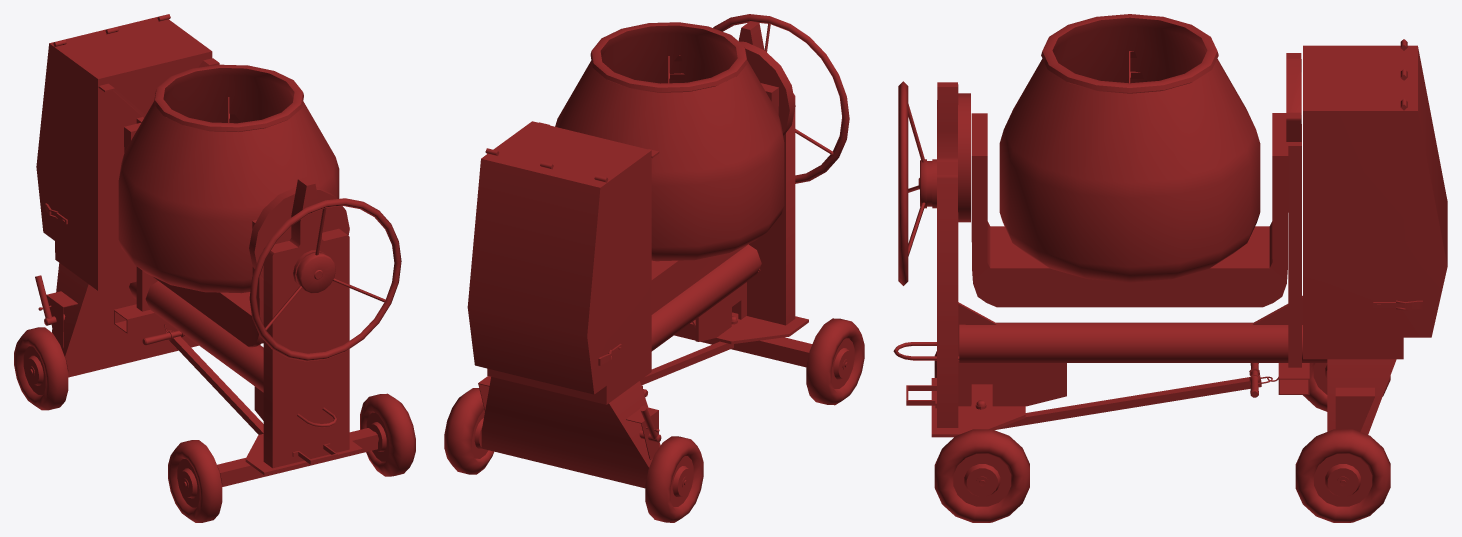
File: SM_CementMixerLOD2.FBX
3 renders of one model, left to right at view 1: azimuth 30°, elevation 25°; view 2: azimuth 150°, elevation 25°; view 3: azimuth 270°, elevation 25°, orthographic. The views are drawn at different scales.
Parts seen in each view (by area): view 1: LOD2_MainPart, LOD2_Basket, LOD2_BackTires, LOD2_Wheel, LOD2_FrontTires, LOD2_TracktingPart, LOD2_Pivot, LOD2_Pulley; view 2: LOD2_MainPart, LOD2_Basket, LOD2_FrontTires, LOD2_BackTires, LOD2_TracktingPart, LOD2_Pivot, LOD2_Wheel, LOD2_Pulley; view 3: LOD2_MainPart, LOD2_Basket, LOD2_Pivot, LOD2_FrontTires, LOD2_BackTires, LOD2_Wheel, LOD2_TracktingPart, LOD2_Pulley.
Part boxes in pixels (x1=…): LOD2_MainPart: x1=36, y1=14, x2=362, y2=475; LOD2_Basket: x1=118, y1=64, x2=339, y2=293; LOD2_BackTires: x1=168, y1=393, x2=415, y2=522; LOD2_Wheel: x1=249, y1=198, x2=401, y2=361; LOD2_FrontTires: x1=14, y1=327, x2=260, y2=410; LOD2_TracktingPart: x1=142, y1=330, x2=377, y2=486; LOD2_Pivot: x1=124, y1=123, x2=263, y2=347; LOD2_Pulley: x1=249, y1=186, x2=349, y2=280; LOD2_MainPart: x1=467, y1=21, x2=808, y2=488; LOD2_Basket: x1=555, y1=22, x2=784, y2=261; LOD2_FrontTires: x1=444, y1=388, x2=703, y2=522; LOD2_BackTires: x1=806, y1=318, x2=864, y2=405; LOD2_TracktingPart: x1=640, y1=316, x2=812, y2=396; LOD2_Pivot: x1=651, y1=83, x2=778, y2=314; LOD2_Wheel: x1=713, y1=14, x2=849, y2=183; LOD2_Pulley: x1=739, y1=41, x2=795, y2=135; LOD2_MainPart: x1=893, y1=39, x2=1447, y2=437; LOD2_Basket: x1=999, y1=14, x2=1260, y2=282; LOD2_Pivot: x1=971, y1=113, x2=1288, y2=307; LOD2_FrontTires: x1=1295, y1=363, x2=1390, y2=522; LOD2_BackTires: x1=934, y1=351, x2=1029, y2=522; LOD2_Wheel: x1=898, y1=81, x2=936, y2=285; LOD2_TracktingPart: x1=975, y1=363, x2=1272, y2=429; LOD2_Pulley: x1=958, y1=93, x2=970, y2=222.
Bounding box in the file's own units: 0.8909 × 1.4 × 1.7.
